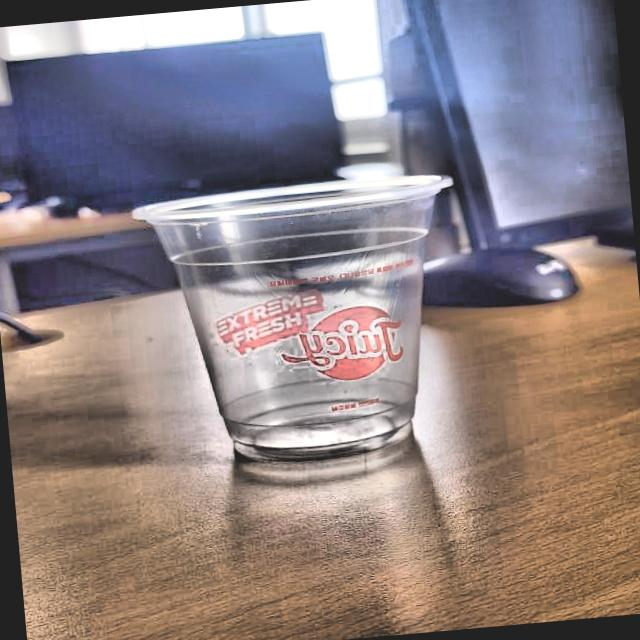plastic cup: (122, 167, 479, 473)
